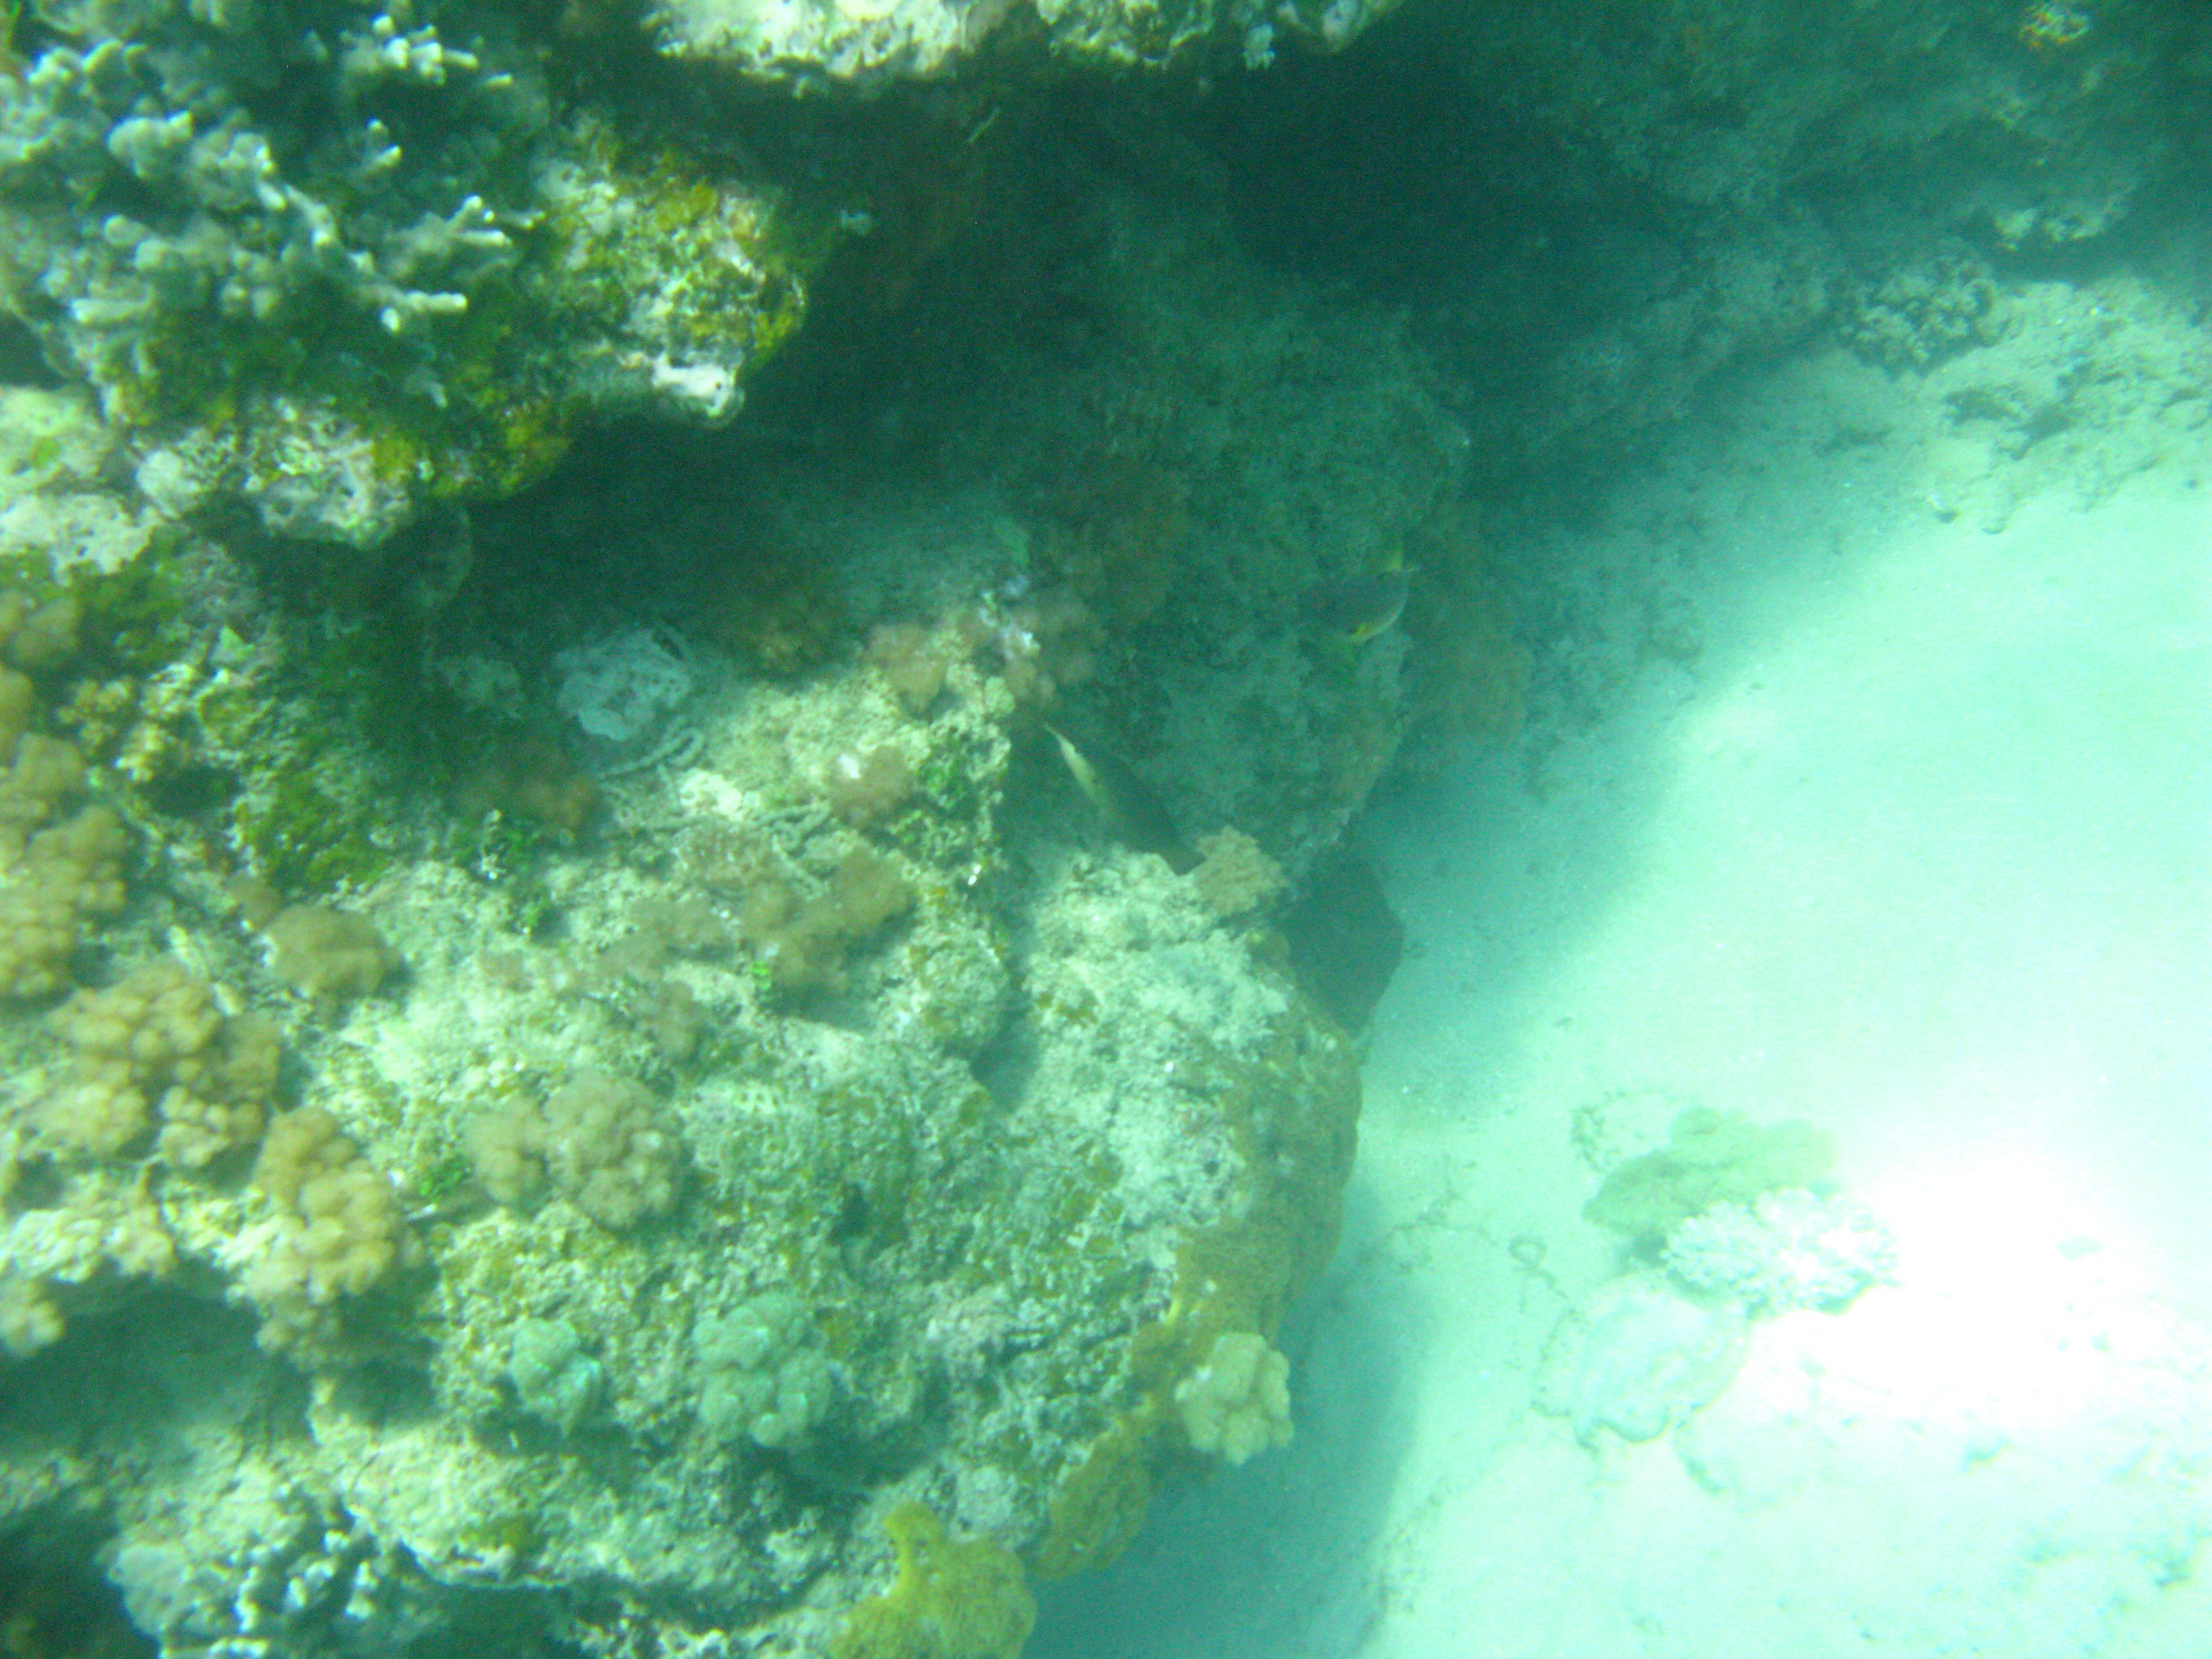Fish: (941, 735, 1219, 901)
